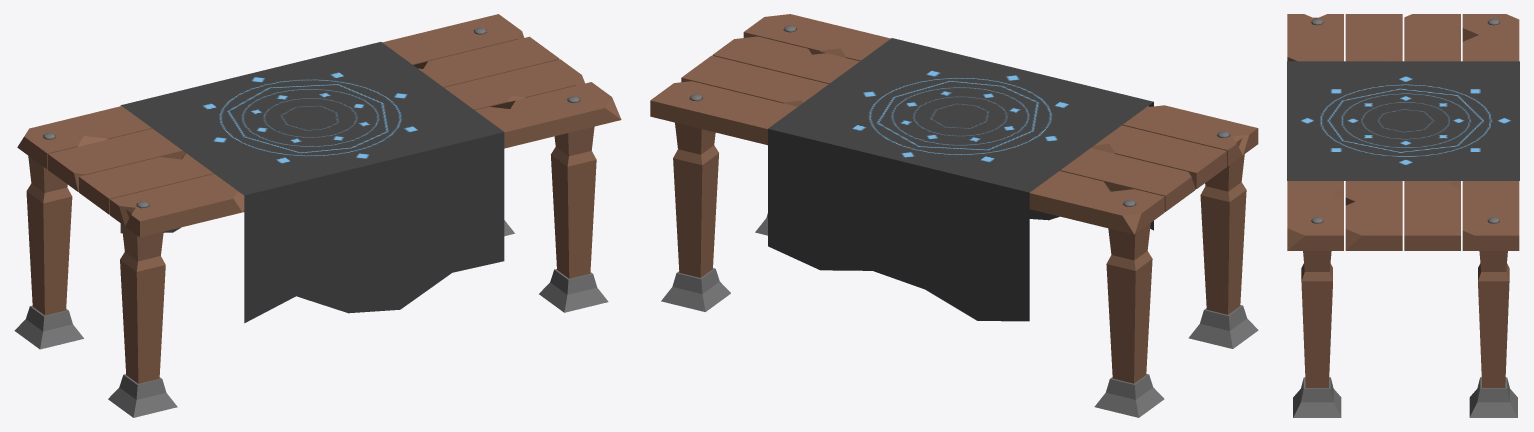
The model's file is WoodTable.fbx.
3 views of the same model, side by side, from view 1: azimuth 30°, elevation 25°; view 2: azimuth 150°, elevation 25°; view 3: azimuth 270°, elevation 25° (orthographic). The views are drawn at different scales.
Parts seen in each view (by area): view 1: WoodTable; view 2: WoodTable; view 3: WoodTable.
Boxes of the visible parts, bbox=[...] form: WoodTable: bbox=[14, 14, 621, 417]; WoodTable: bbox=[650, 14, 1258, 417]; WoodTable: bbox=[1287, 14, 1519, 417].
Bounding box in the file's own units: 14766 × 5826 × 6506.
